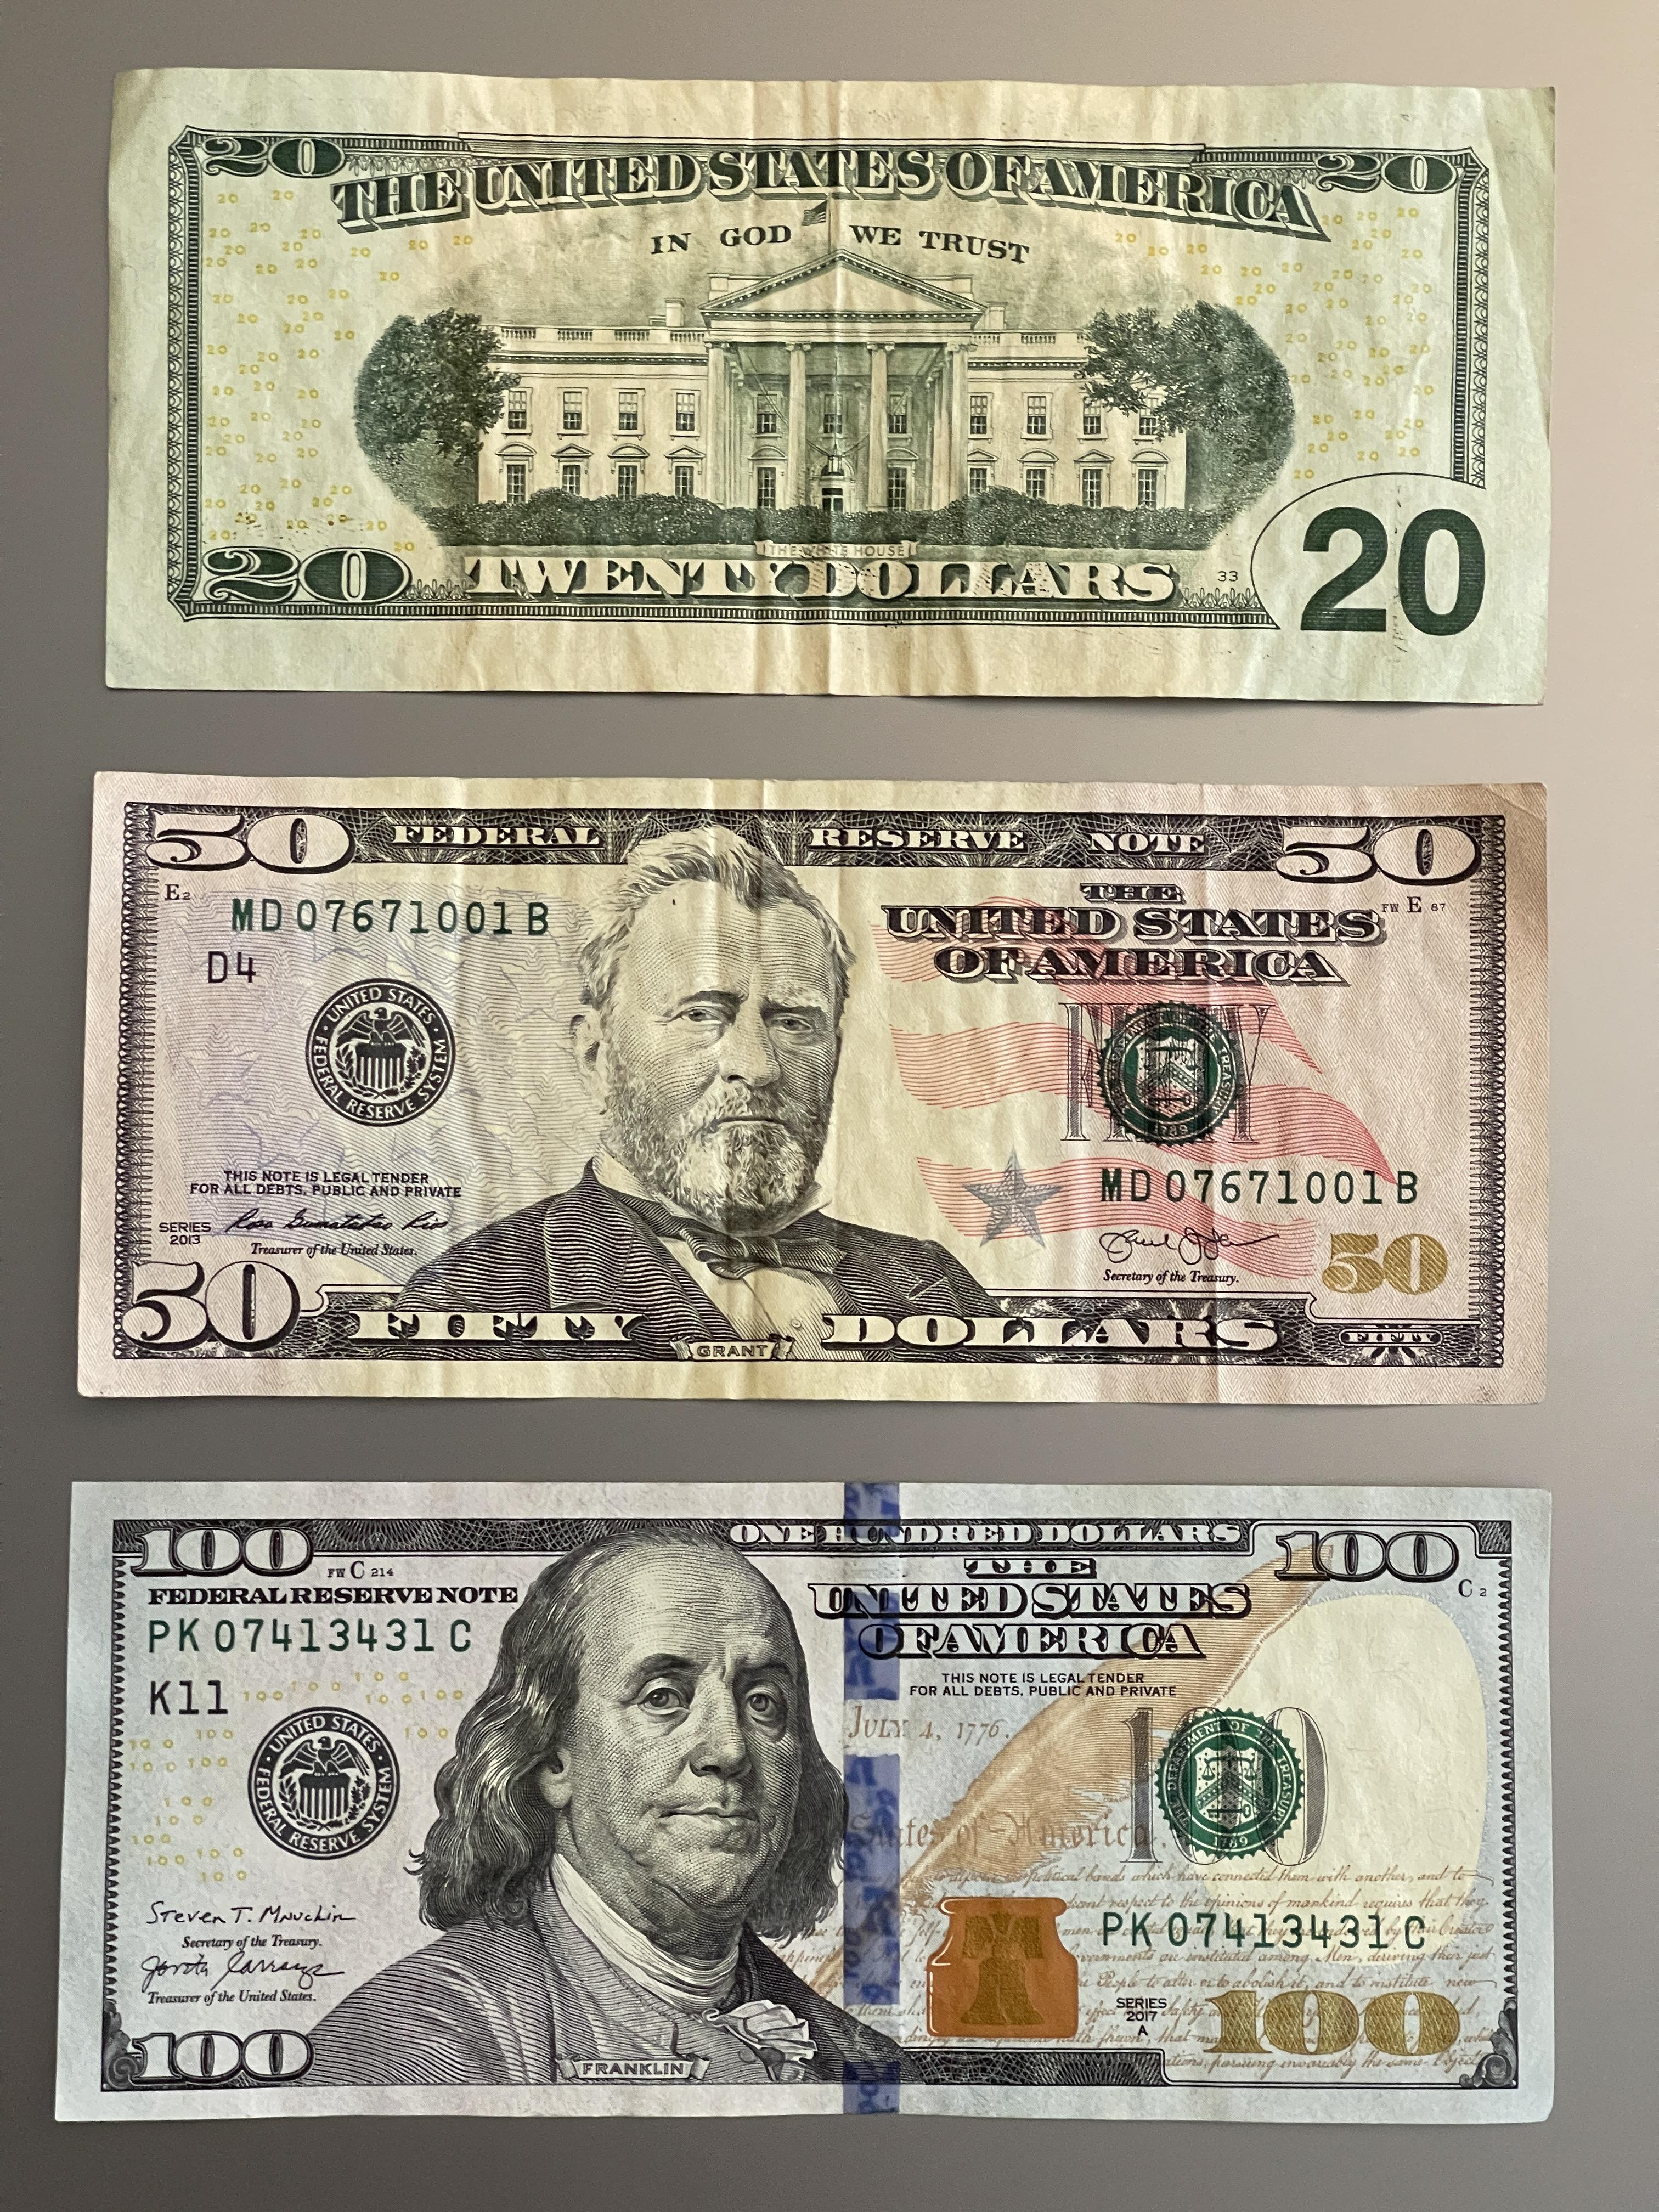FiftyBill: (71, 766, 1554, 1411)
HundredBill: (47, 1474, 1560, 2128)
TwentyBill: (98, 61, 1558, 707)
